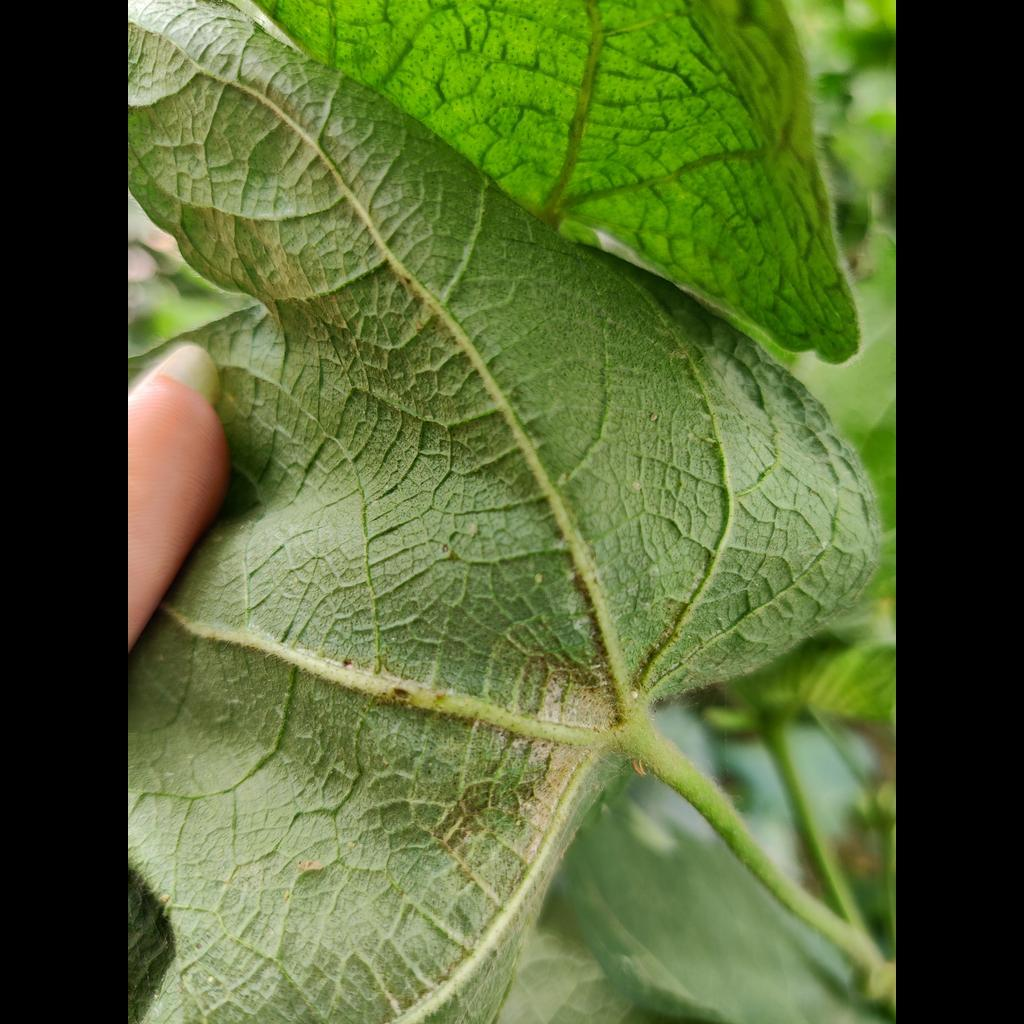nymph: (632, 482, 642, 491), (535, 573, 543, 584), (630, 689, 638, 699), (651, 414, 658, 421)
